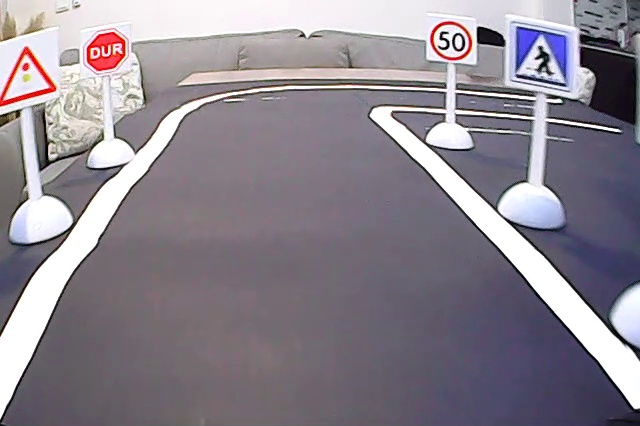pedestrian crossing: (507, 22, 572, 90)
red light: (1, 43, 60, 107)
speed limit 50: (429, 17, 473, 64)
stop sign: (83, 29, 132, 76)
